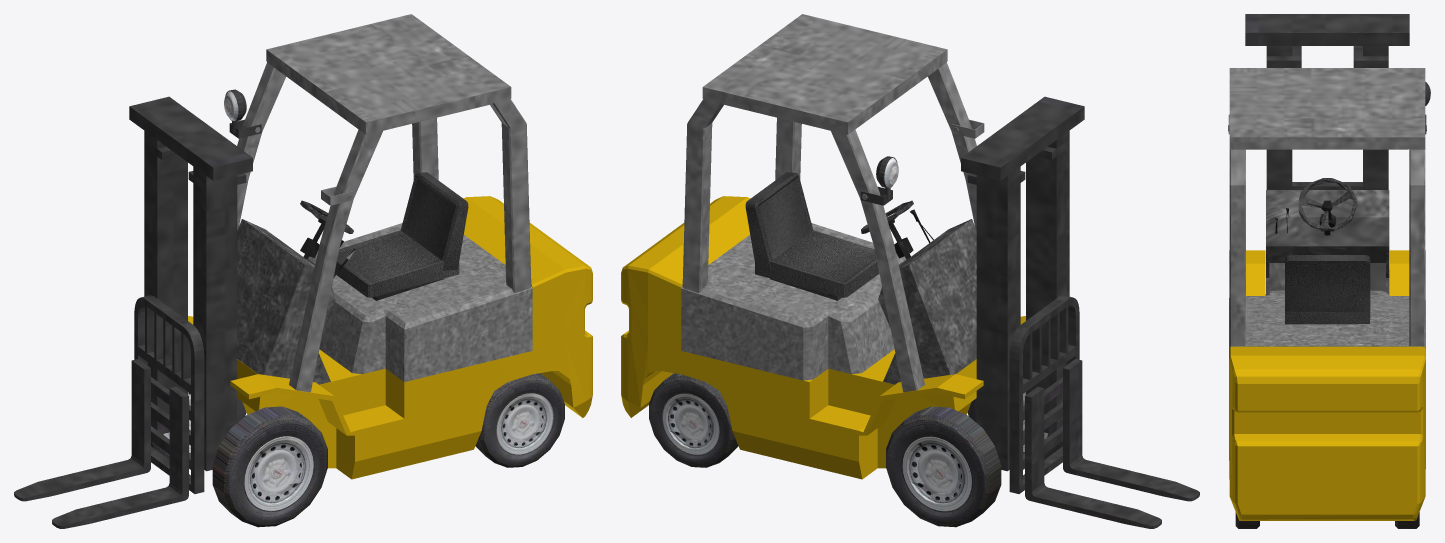
3 renders of one model, left to right at view 1: azimuth 30°, elevation 25°; view 2: azimuth 150°, elevation 25°; view 3: azimuth 270°, elevation 25°, orthographic.
Parts seen in each view (by area): view 1: Forklift.007; view 2: Forklift.007; view 3: Forklift.007.
Part boxes in pixels (left/top/right/bottom): Forklift.007: left=14, top=14, right=592, bottom=528; Forklift.007: left=621, top=14, right=1199, bottom=528; Forklift.007: left=1228, top=14, right=1430, bottom=528.
Size of the model in its own units: 3.91 by 2.83 by 1.37.
Materials: 1 (1 with a texture image).
